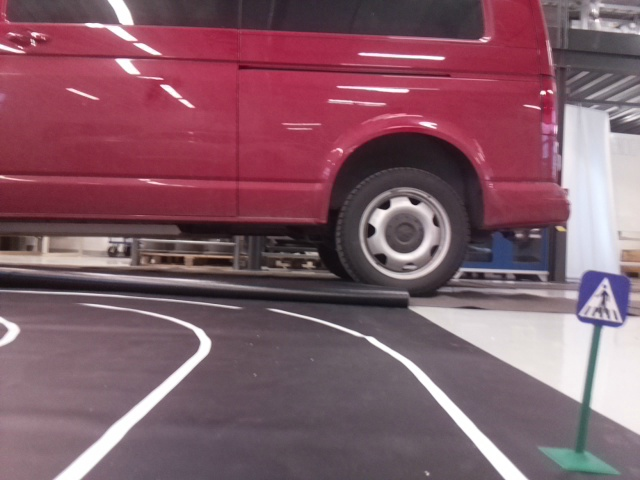Crosswalk: (577, 268, 623, 323)
